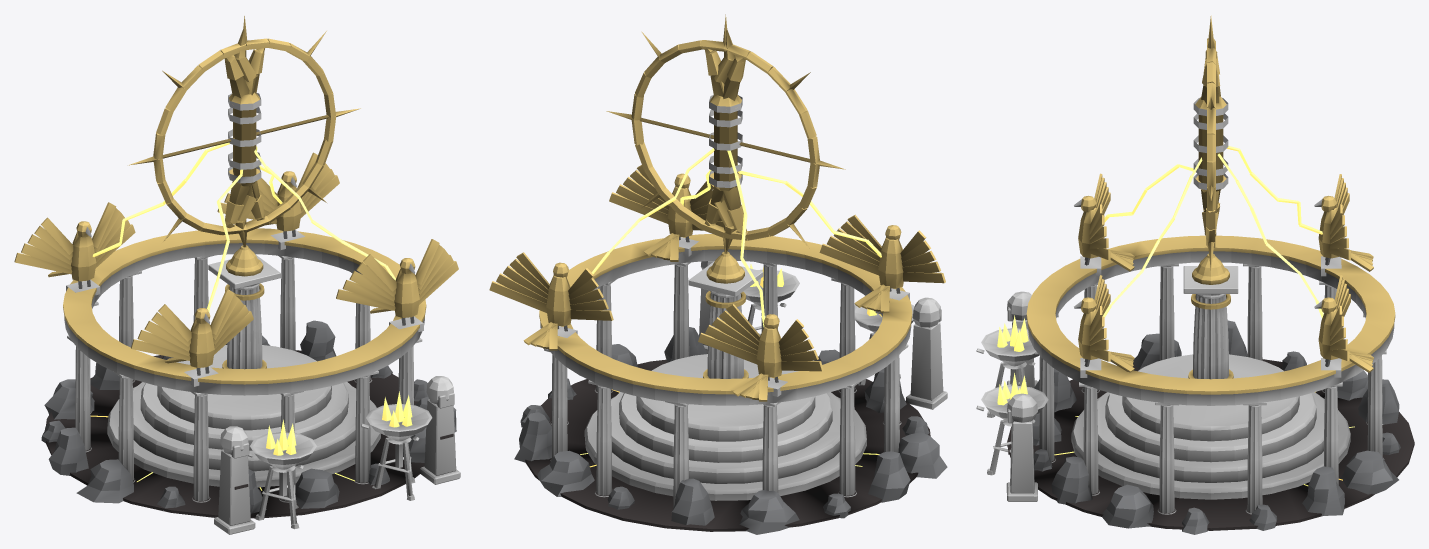
The model's file is thunderbolt-of-zeus-l3.glb.
The picture shows the model from 3 angles, left to right: view 1: azimuth 30°, elevation 25°; view 2: azimuth 150°, elevation 25°; view 3: azimuth 270°, elevation 25°; orthographic projection. The views are drawn at different scales.
Visible parts, largest first — view 1: thunderbolt-of-zeus-l3; view 2: thunderbolt-of-zeus-l3; view 3: thunderbolt-of-zeus-l3.
Part boxes in pixels (x1=…): thunderbolt-of-zeus-l3: x1=14, y1=16, x2=460, y2=534; thunderbolt-of-zeus-l3: x1=489, y1=14, x2=947, y2=534; thunderbolt-of-zeus-l3: x1=976, y1=15, x2=1414, y2=534.
Bounding box in the file's own units: 1.54 × 1.68 × 1.57.
